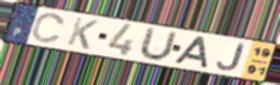4: (106, 23, 136, 58)
A: (173, 35, 211, 70)
C: (30, 12, 67, 44)
J: (215, 42, 246, 72)
K: (64, 15, 100, 51)
U: (136, 26, 180, 63)
